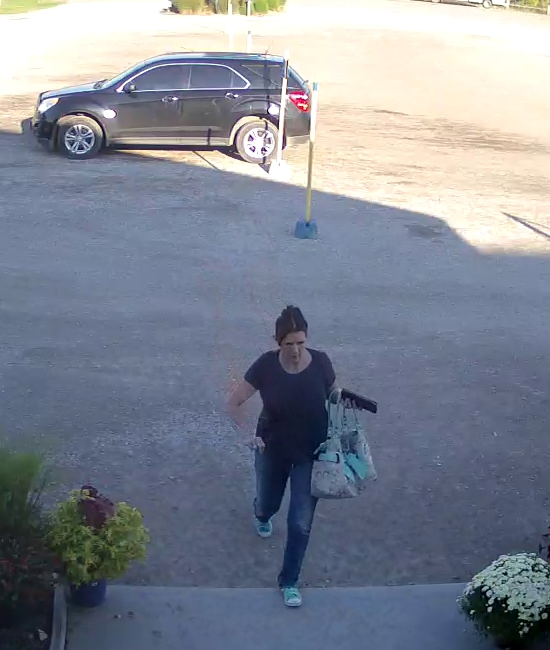person: (230, 304, 373, 616)
